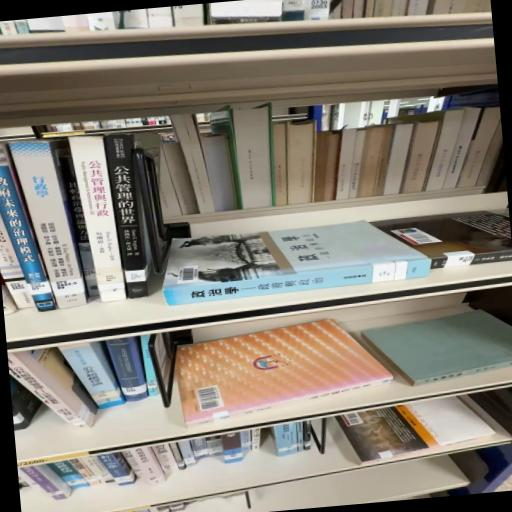flat: (160, 216, 434, 308), (174, 316, 397, 428), (336, 393, 512, 468), (361, 308, 512, 392)
